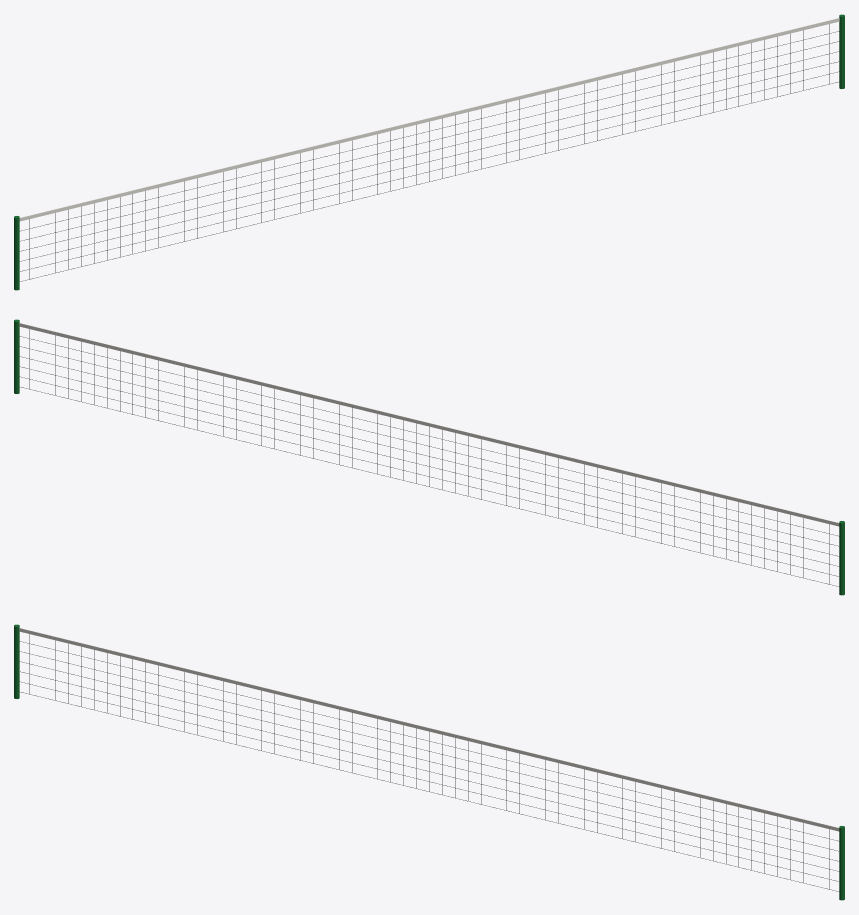
Rendered from sport.pitch.tennis_net.glb.
3 renders of one model, top to bottom at view 1: azimuth 30°, elevation 25°; view 2: azimuth 150°, elevation 25°; view 3: azimuth 330°, elevation 25°, orthographic.
Parts seen in each view (by area): view 1: main__plastic_black, main__fabric_white, main__plastic_green; view 2: main__plastic_black, main__fabric_white, main__plastic_green; view 3: main__plastic_black, main__fabric_white, main__plastic_green.
Boxes of the visible parts, x1,y1,x2,y2 form: main__plastic_black: (20, 24, 839, 281); main__fabric_white: (19, 18, 839, 221); main__plastic_green: (14, 14, 844, 290); main__plastic_black: (19, 329, 838, 586); main__fabric_white: (19, 323, 839, 526); main__plastic_green: (14, 319, 844, 595); main__plastic_black: (19, 634, 838, 891); main__fabric_white: (19, 628, 839, 831); main__plastic_green: (14, 624, 844, 900).
Bounding box in the file's own units: 12.88 × 1.07 × 0.08.
